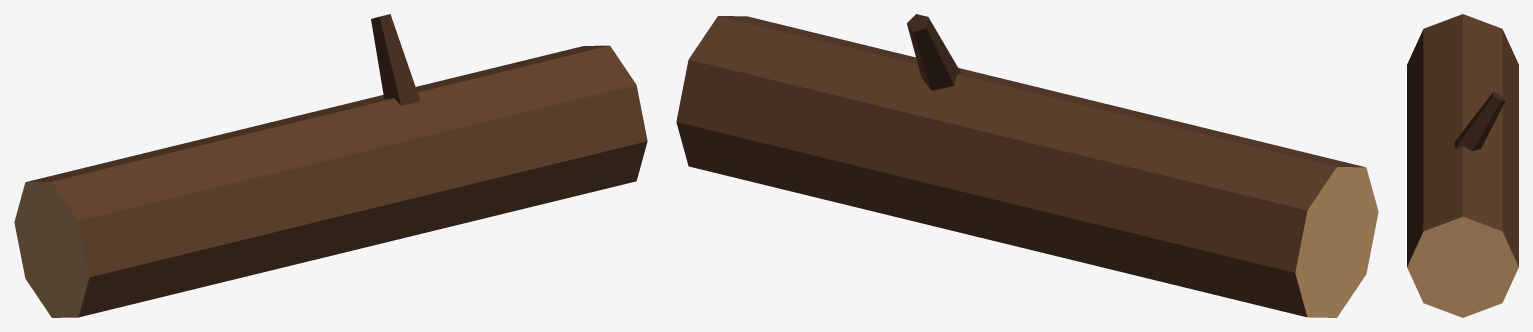
Rendered from Log.fbx.
3 renders of one model, left to right at view 1: azimuth 30°, elevation 25°; view 2: azimuth 150°, elevation 25°; view 3: azimuth 270°, elevation 25°, orthographic. The views are drawn at different scales.
Parts seen in each view (by area): view 1: Log; view 2: Log; view 3: Log.
Boxes of the visible parts, left/top/right/bottom form: Log: left=14, top=14, right=647, bottom=317; Log: left=676, top=14, right=1378, bottom=317; Log: left=1407, top=14, right=1518, bottom=317.
Bounding box in the file's own units: 6 × 2.07 × 1.4.
1 material, 1 textured.
